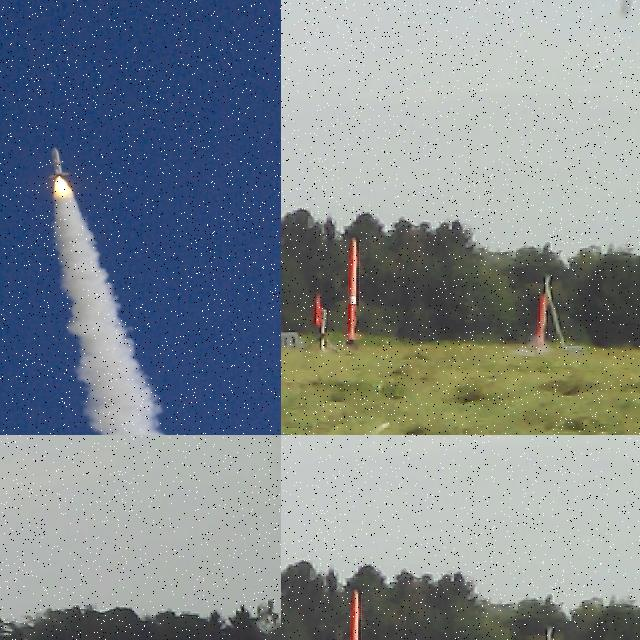Rocket: (346, 237, 358, 341), (47, 146, 71, 182), (348, 589, 360, 640), (537, 290, 546, 348), (314, 291, 325, 326)
